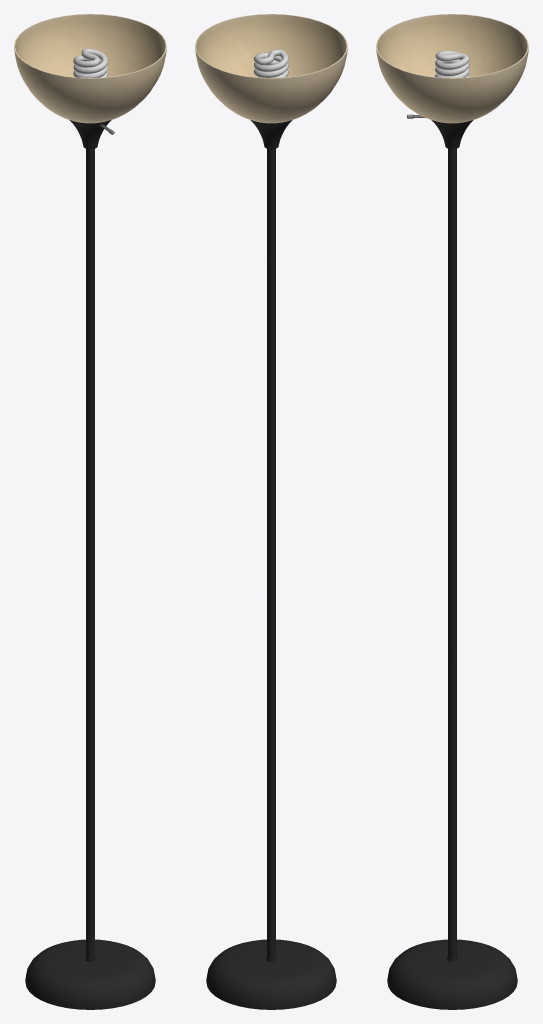
The model's file is floor-lamp-uplight.glb.
3 views of the same model, side by side, from view 1: azimuth 30°, elevation 25°; view 2: azimuth 150°, elevation 25°; view 3: azimuth 270°, elevation 25° (orthographic).
Visible parts, largest first — view 1: StandingLamp1_StandingLampOff_0; view 2: StandingLamp1_StandingLampOff_0; view 3: StandingLamp1_StandingLampOff_0.
Boxes of the visible parts, x1=… form: StandingLamp1_StandingLampOff_0: x1=14, y1=14, x2=166, y2=1009; StandingLamp1_StandingLampOff_0: x1=195, y1=14, x2=347, y2=1009; StandingLamp1_StandingLampOff_0: x1=376, y1=14, x2=528, y2=1009.
Bounding box in the file's own units: 0.2686 × 1.81 × 0.2686.
Materials: 1 (1 with a texture image).
